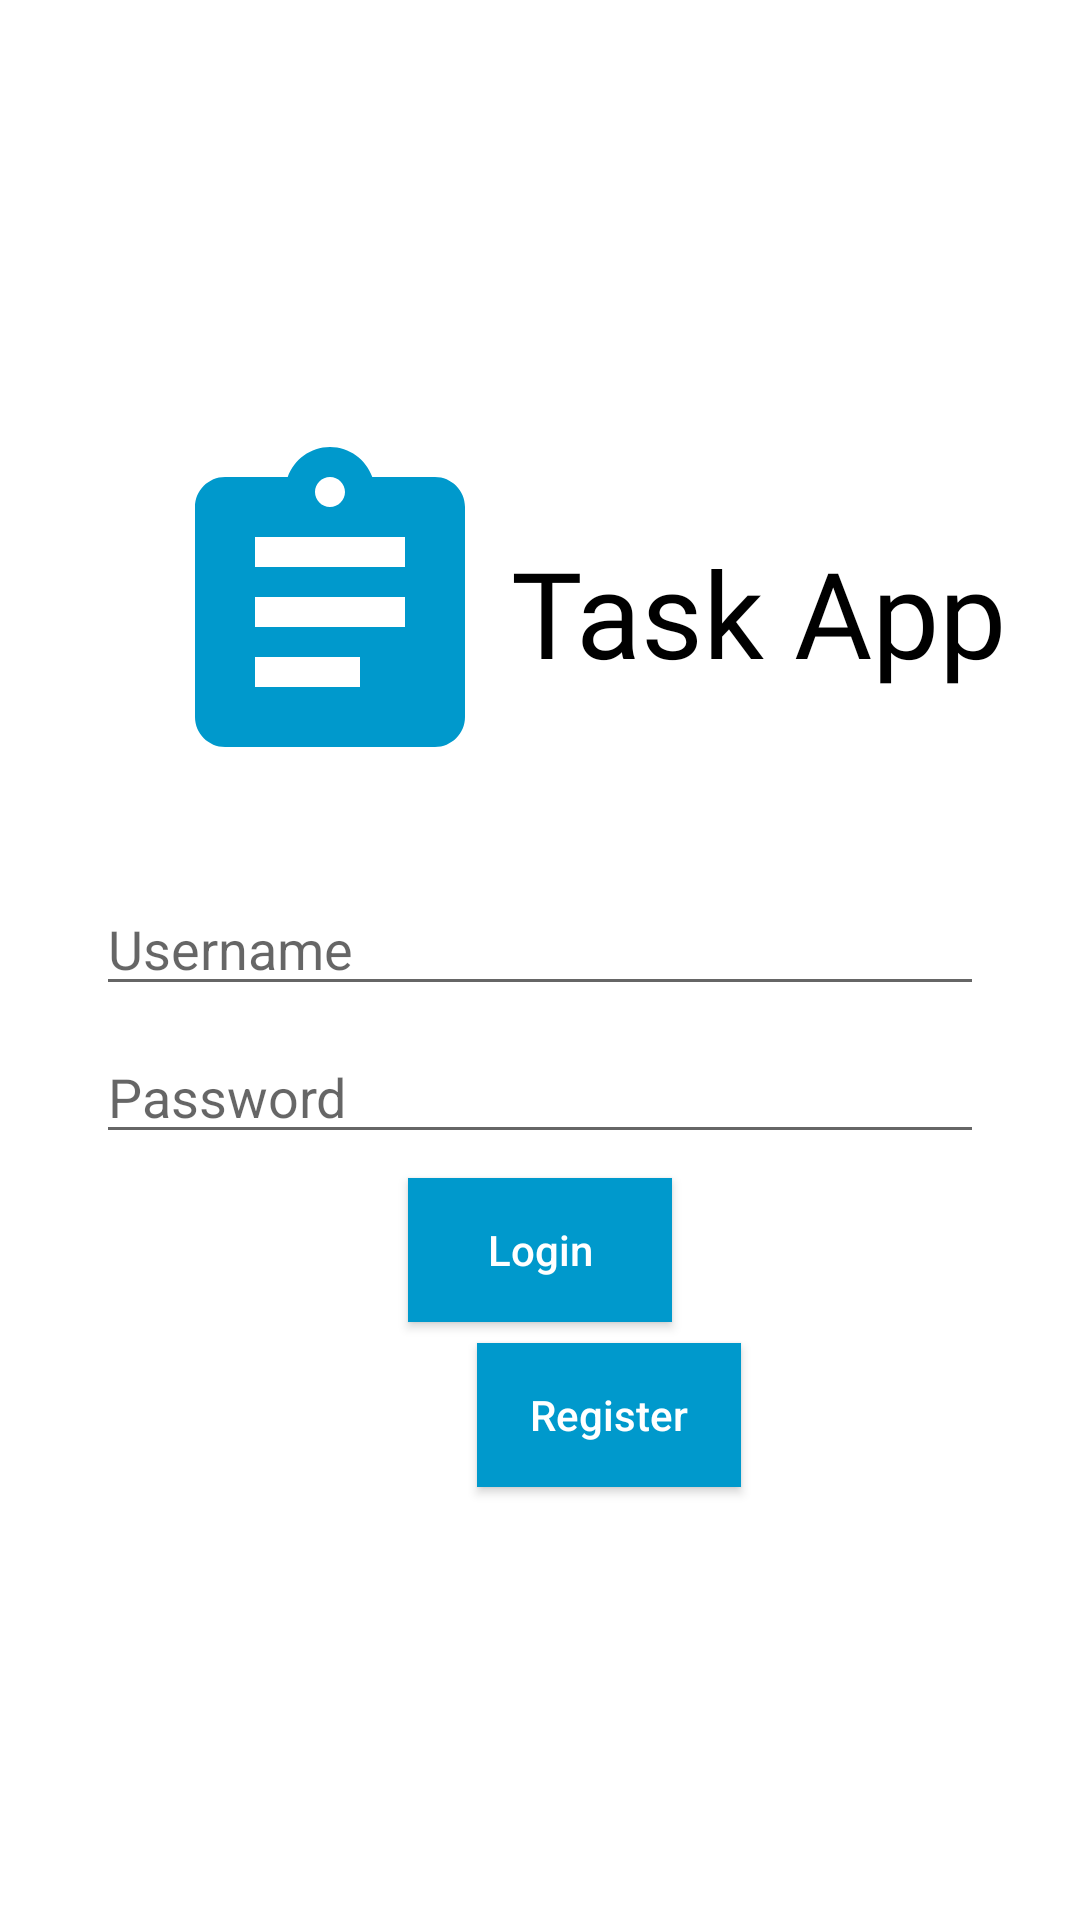

Named icons in this screenshot (1080×1920) and their bounding boxes, (x1, y1, x2, y2):
assignment: (195, 447, 465, 747)
